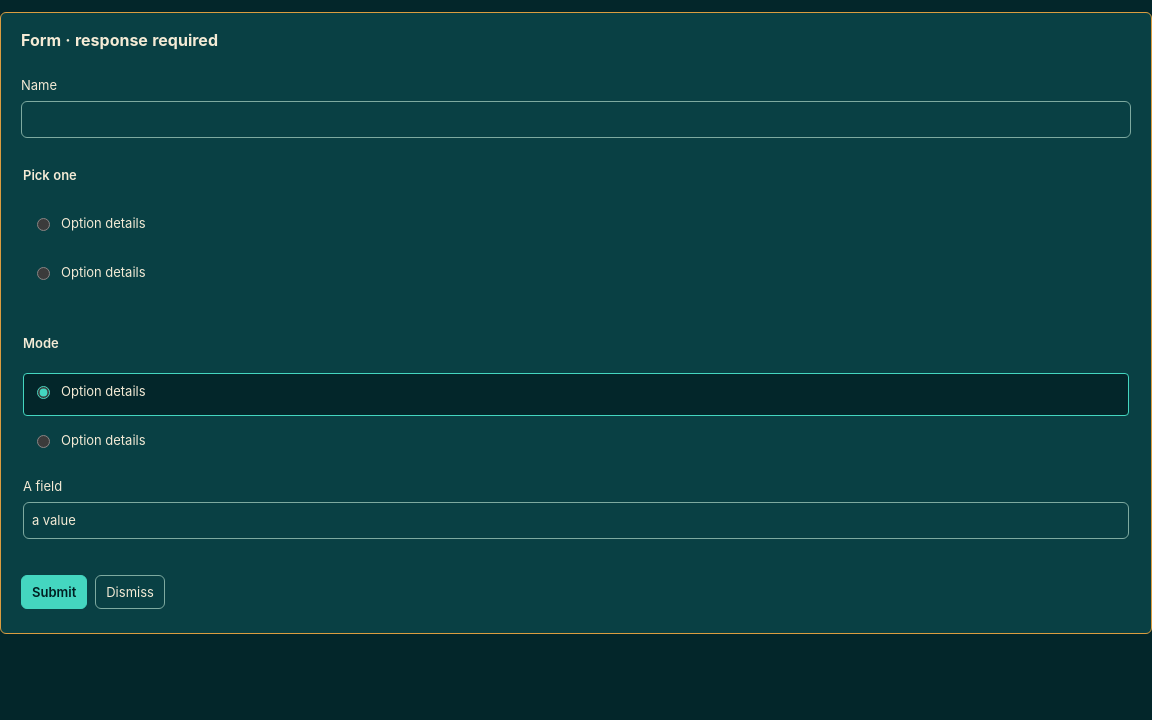
Test: mounted actor forms › refuses Submit without secure randomness and preserves the draft
Type "retained draft" into the field labelled "Name". click: (576, 119)
box: x1=21 y1=101 x2=1131 y2=138
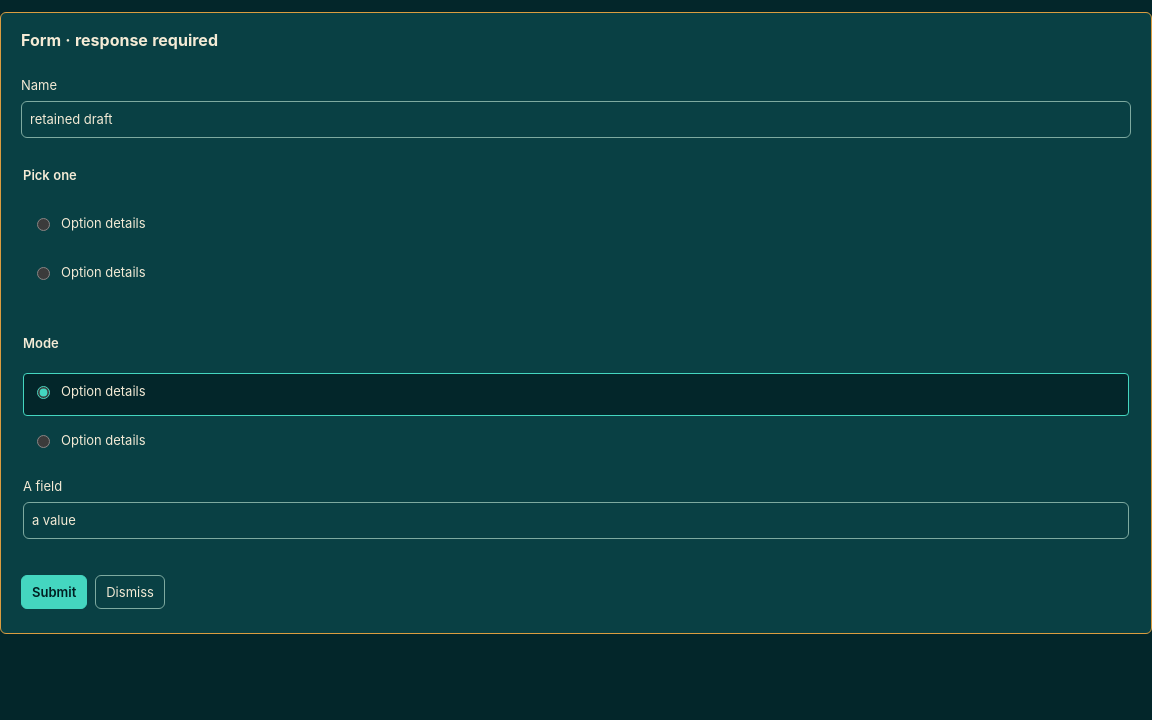
Click the button "Submit". click: (54, 592)
box: x1=21 y1=575 x2=87 y2=609
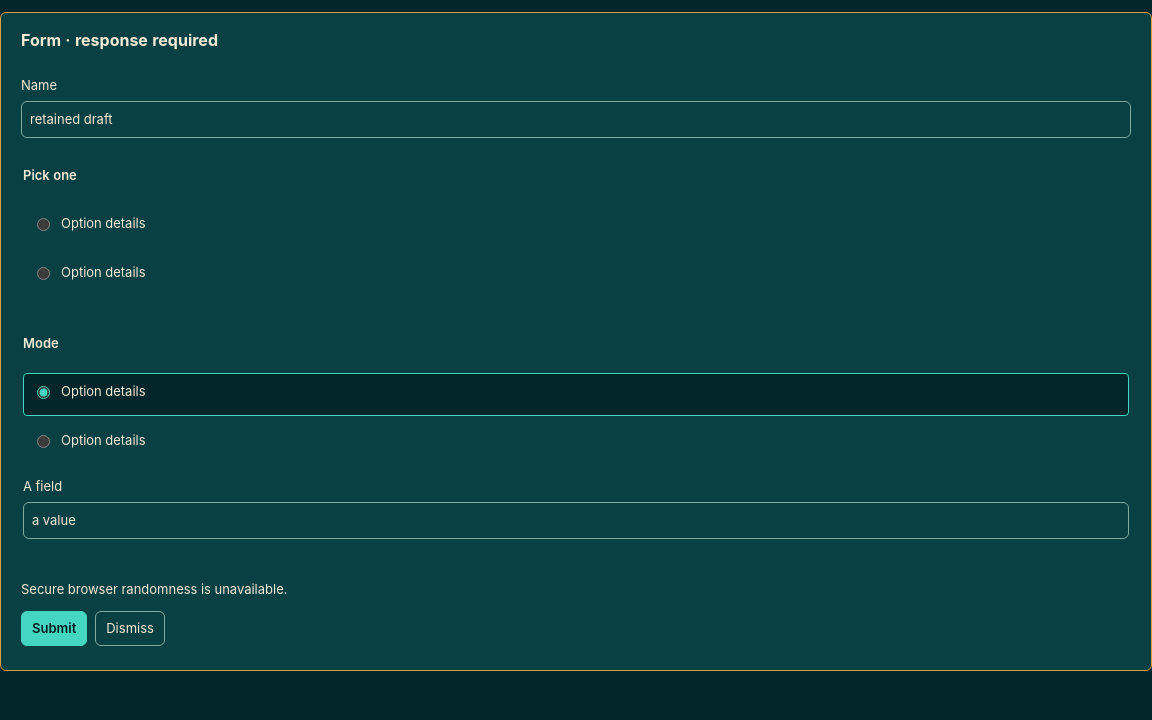
Expected: the button "Submit" is enabled, x1=21 y1=612 x2=87 y2=646
Expected: the message reads "Secure browser randomness is unavailable.", x1=21 y1=581 x2=287 y2=597
